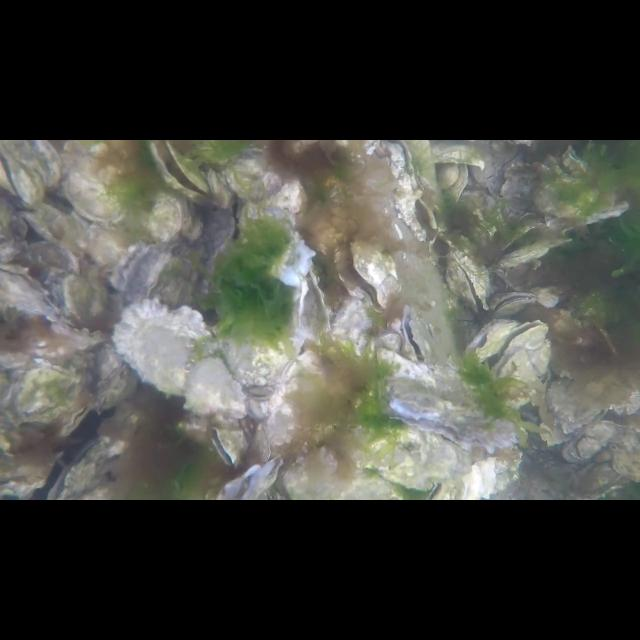Oyster-Closed: (63, 154, 131, 226), (500, 236, 572, 268), (55, 396, 101, 442), (406, 140, 438, 192), (50, 319, 104, 347), (379, 330, 403, 356)
Oyster-Indeterminate: (114, 296, 246, 416), (348, 427, 474, 491), (264, 349, 324, 446), (4, 366, 84, 420), (26, 206, 94, 264), (56, 273, 114, 329), (330, 294, 372, 354), (146, 198, 188, 248)
Oyster-Open: (228, 146, 318, 288), (384, 376, 520, 456), (379, 140, 439, 242), (50, 434, 130, 500), (146, 140, 218, 208), (335, 235, 397, 313), (542, 368, 610, 434), (0, 262, 68, 324), (0, 140, 60, 208), (491, 319, 549, 381), (214, 456, 282, 500), (444, 252, 492, 314), (107, 238, 153, 296), (298, 269, 332, 347), (466, 318, 520, 358), (401, 306, 435, 366), (207, 428, 243, 467), (491, 292, 534, 316)
